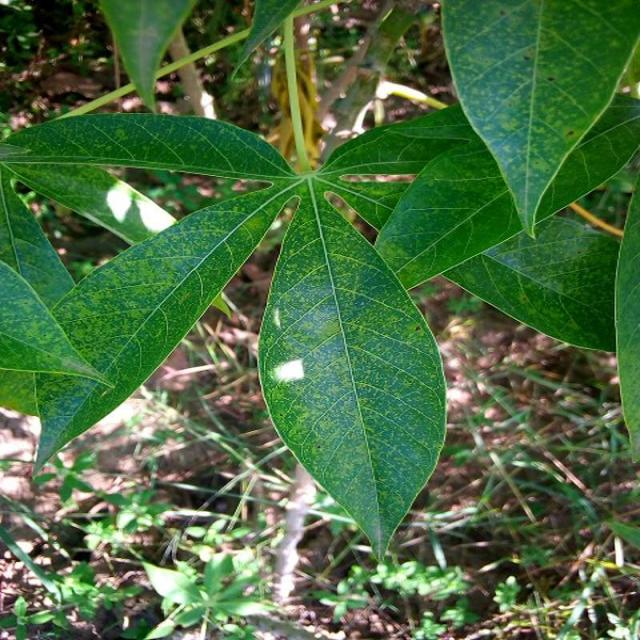cassava leaf: (256, 181, 448, 562), (440, 0, 638, 240)
